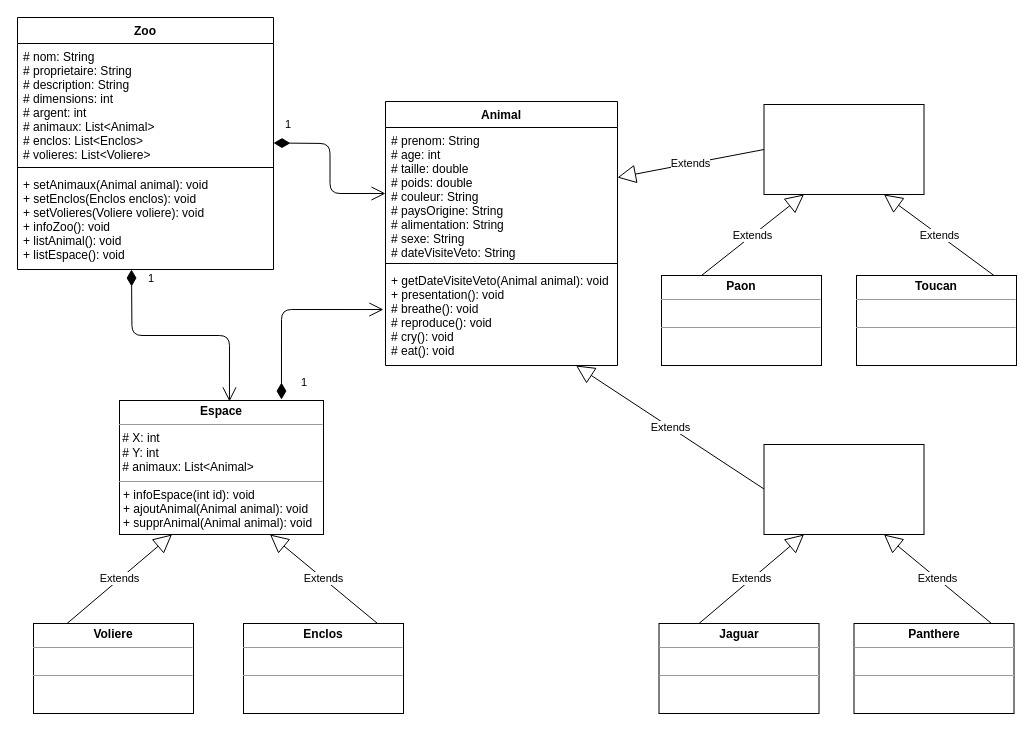
The diagram is 1034 pixels wide and 731 high, and some of its shapes have lost their labels. The shapes that lost their labels are listed below. From the top down, each one's box as (x1, y1, x2, y2) in pixels, then its label:
(763, 104, 924, 194): Oiseau # voler: String + flyingAbility(): void
(763, 444, 924, 534): Felin # courir: String + runningAbility(): void
